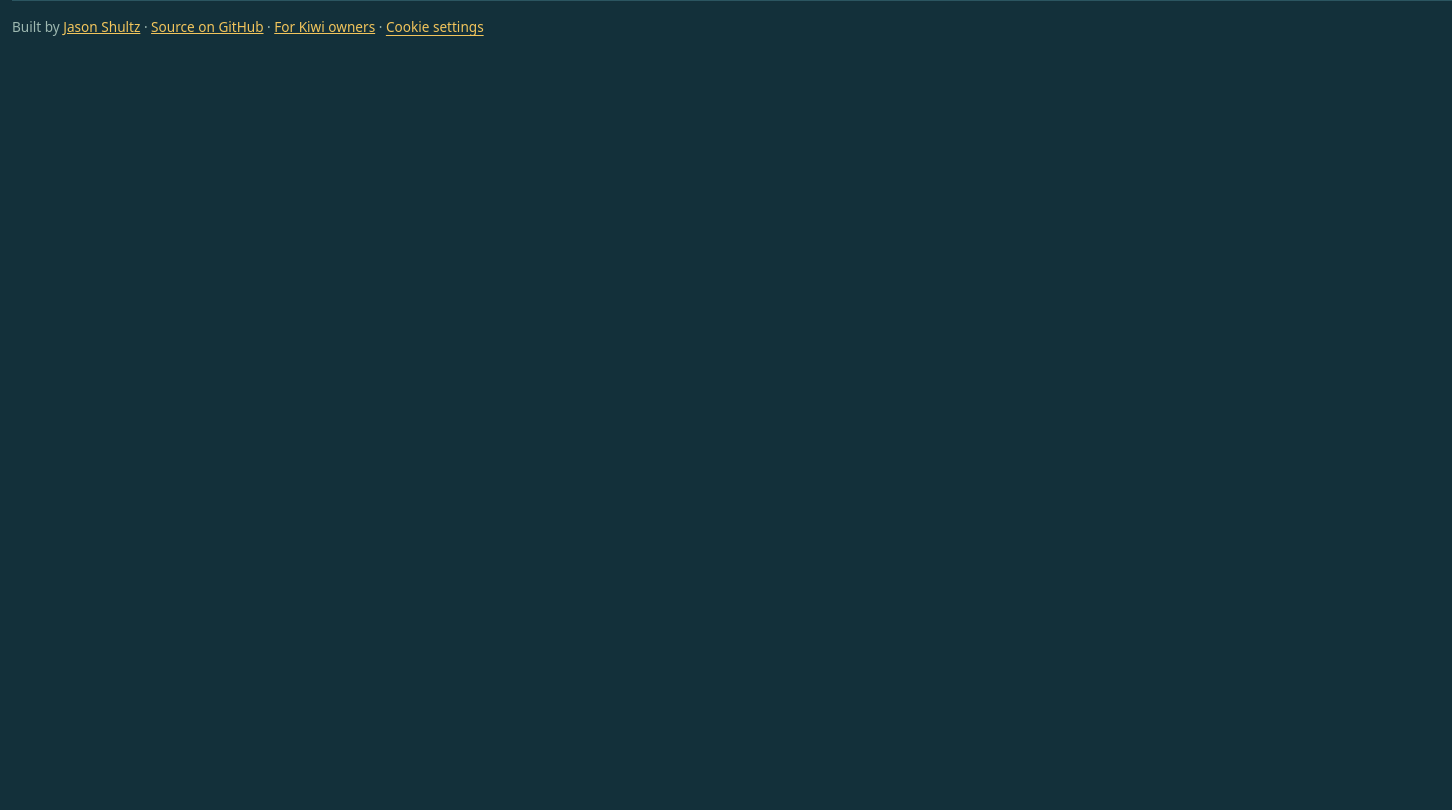
Test: AnalyticsConsent › reopens from the footer and withdraws consent on Decline
The image size is (1452, 810).
What coordinates should you click on to do the following:
click the button "Cookie settings"
I would click on:
 (435, 27)
Its box is x1=386 y1=17 x2=484 y2=37.
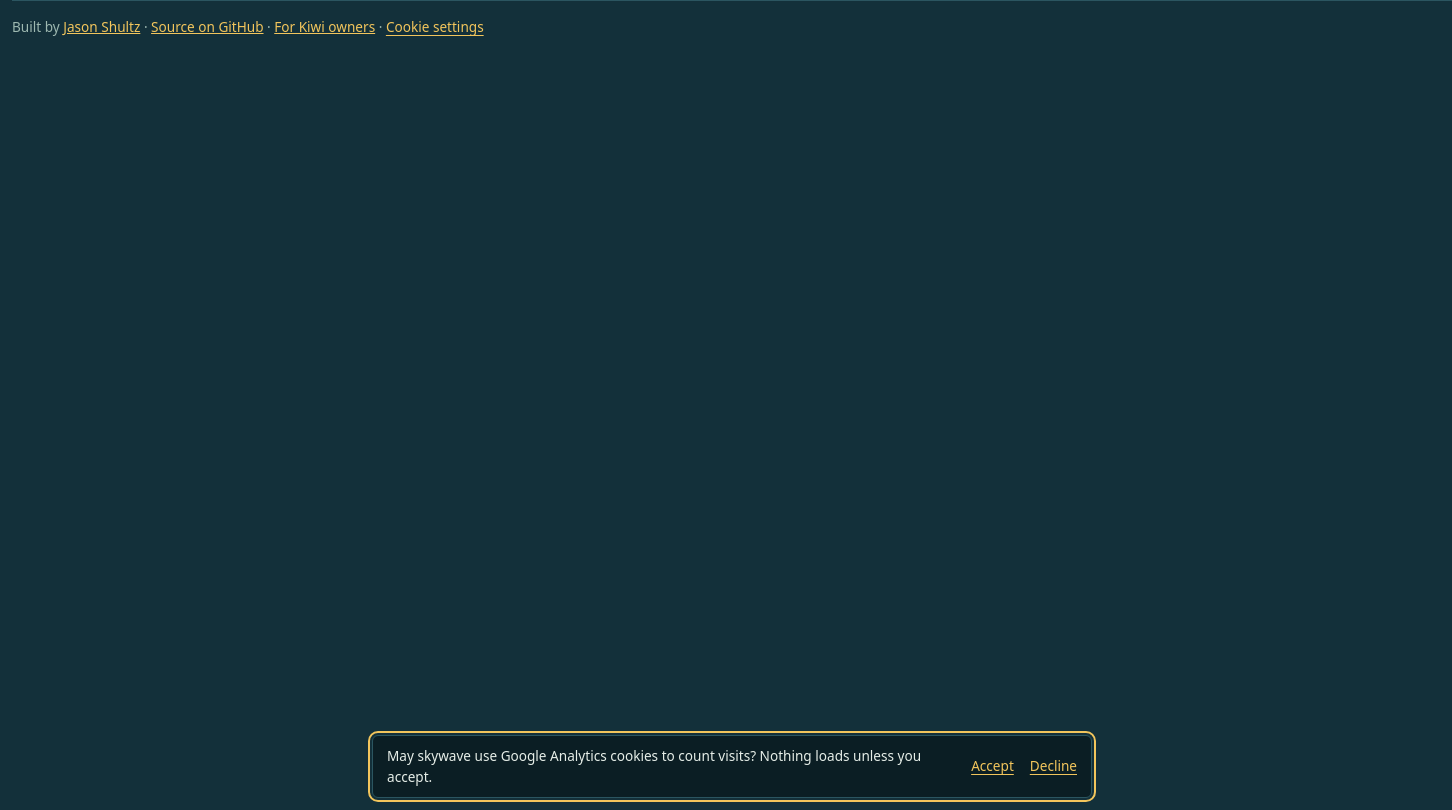
What coordinates should you click on to do the following:
click the button "Decline"
I would click on:
 (1053, 767)
Its box is x1=1030 y1=756 x2=1077 y2=777.
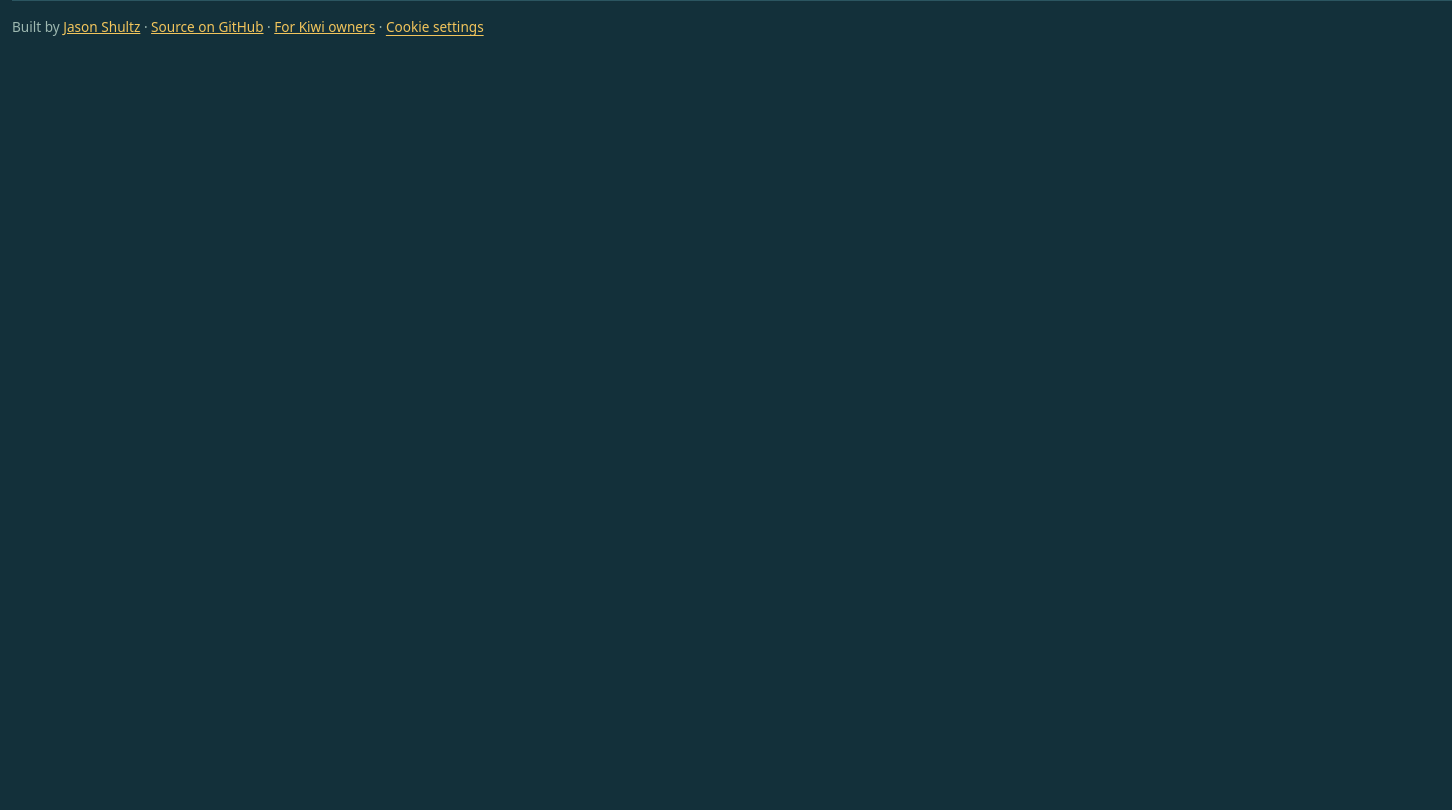
Result: the text "Google Analytics" is gone
